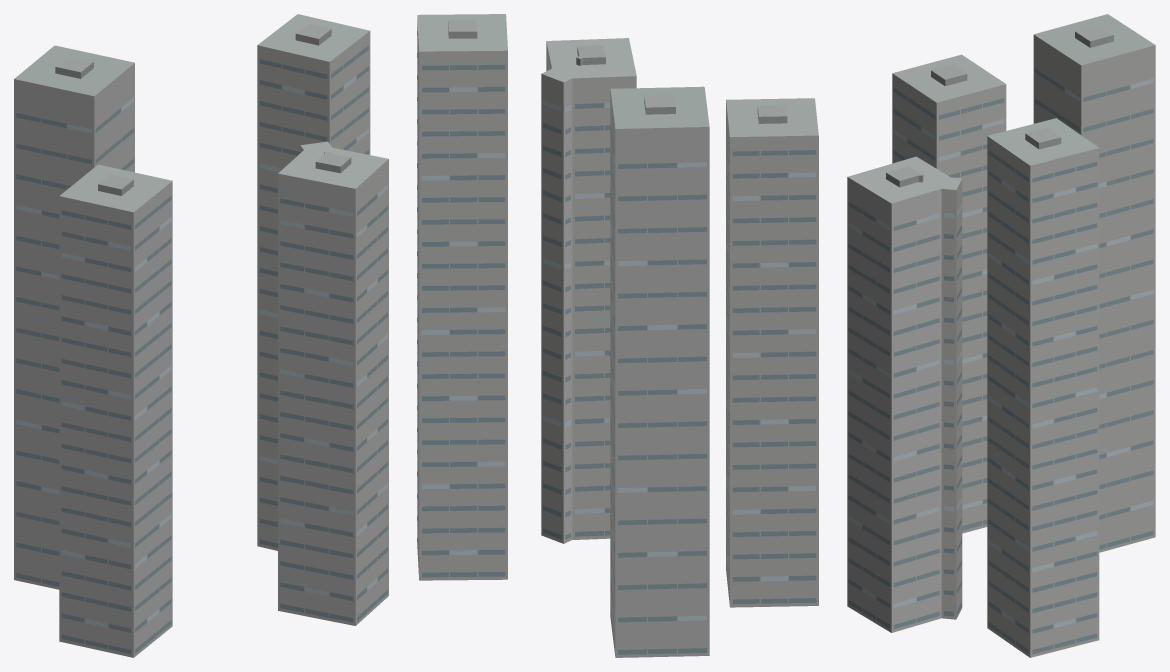
Rendered from apt-a15870101.glb.
The picture shows the model from 3 angles, left to right: view 1: azimuth 30°, elevation 25°; view 2: azimuth 150°, elevation 25°; view 3: azimuth 270°, elevation 25°; orthographic projection. The views are drawn at different scales.
Visible parts, largest first — view 1: apt-a15870101; view 2: apt-a15870101; view 3: apt-a15870101.
Part boxes in pixels (box(x1,y1,x2,y2)): apt-a15870101: box(14, 14, 388, 657); apt-a15870101: box(417, 14, 818, 657); apt-a15870101: box(847, 14, 1155, 657).
Bounding box in the file's own units: 130 × 183 × 103.
